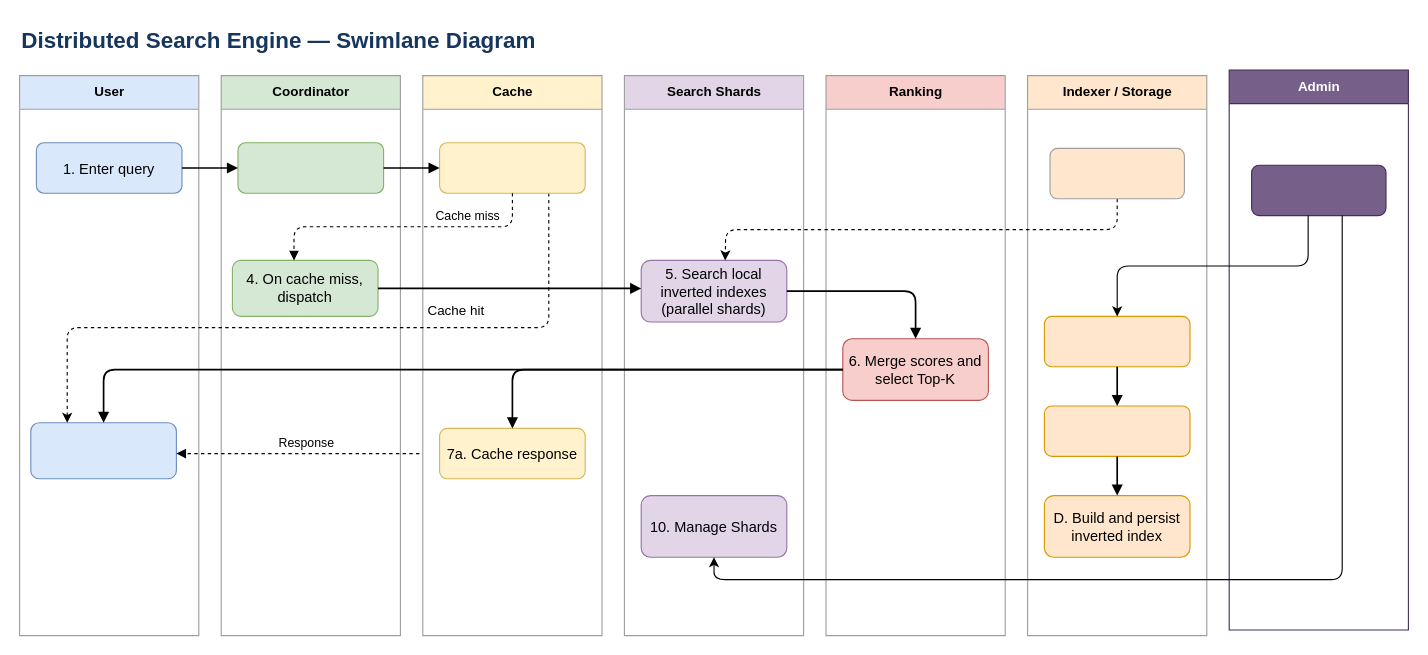
Image size: 1428x655. Some labels were removed from this diagram. Here are the shapes that lost their labels. From the top down, the centre of each, then its label:
the point at 310,167: 2. Parse query
the point at 511,167: 3. Check query cache
the point at 1116,173: A. Stored Documents
the point at 1318,190: 9. Raw documents
the point at 1116,341: B. Receive raw documents
the point at 103,450: 8. Display ranked results
the point at 1116,430: C. Normalize and tokenize
